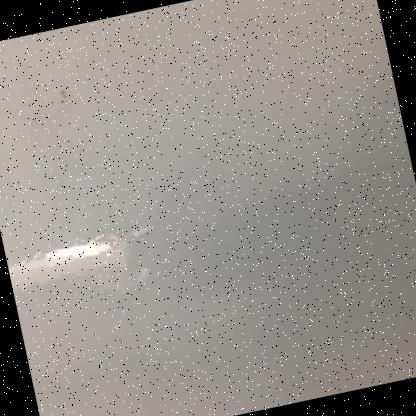Crack: (36, 67, 94, 128)
Nocrack: (0, 101, 414, 415)
